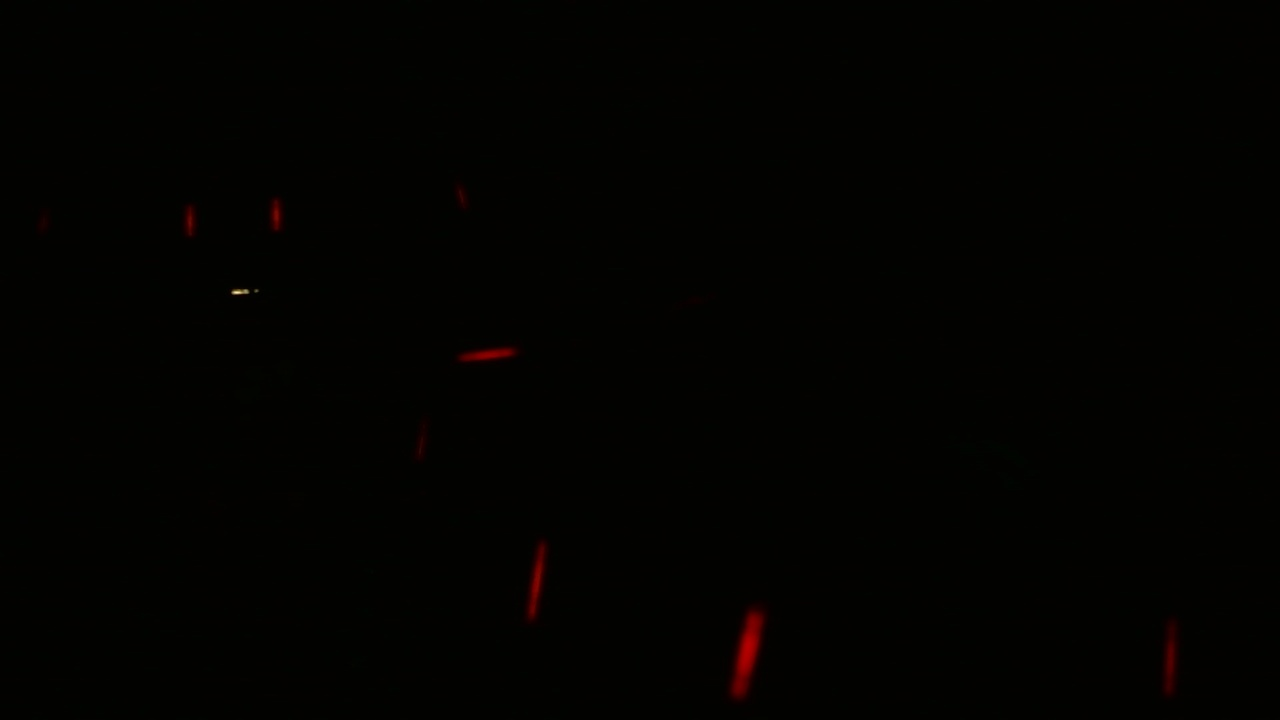pair1: (531, 539, 762, 695), (179, 194, 286, 241)
